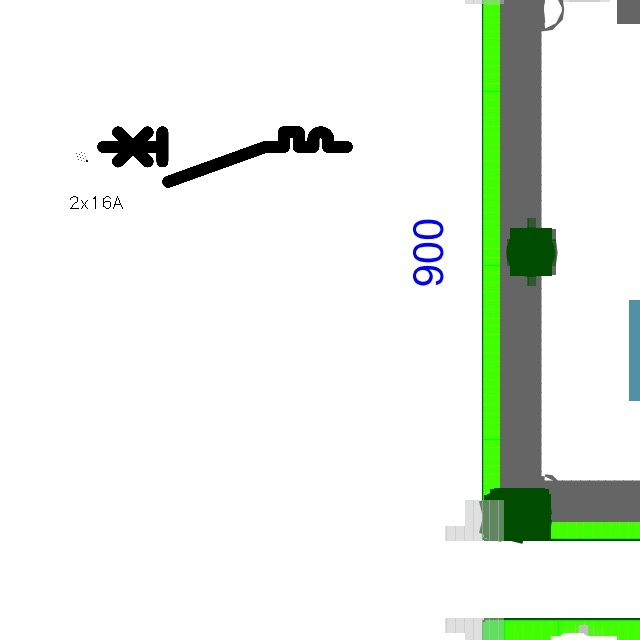interruptor_termomagnetico: (97, 126, 353, 188)
